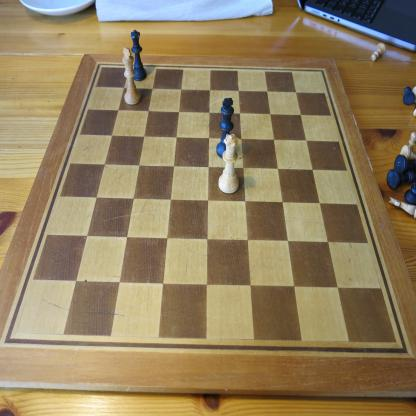black-king: (216, 97, 234, 159)
black-queen: (130, 29, 147, 82)
white-king: (122, 46, 141, 106)
white-knight: (388, 196, 415, 220)
white-pawn: (370, 42, 387, 62)
white-queen: (218, 133, 239, 195)
